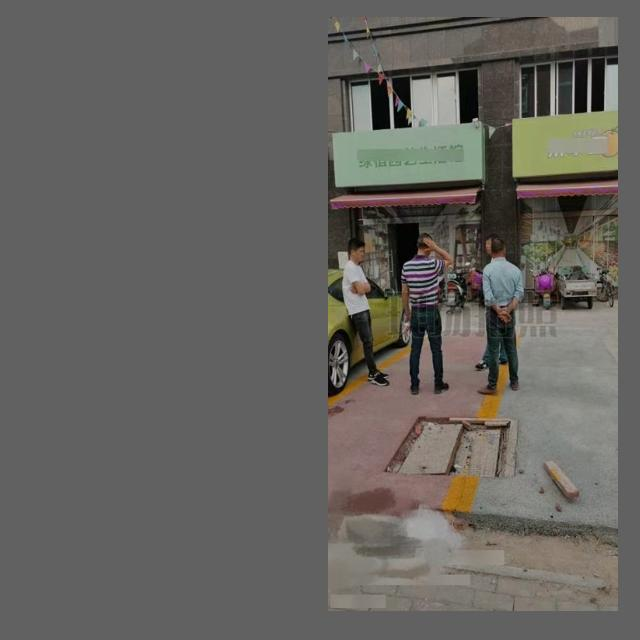circle: (390, 417, 517, 480)
